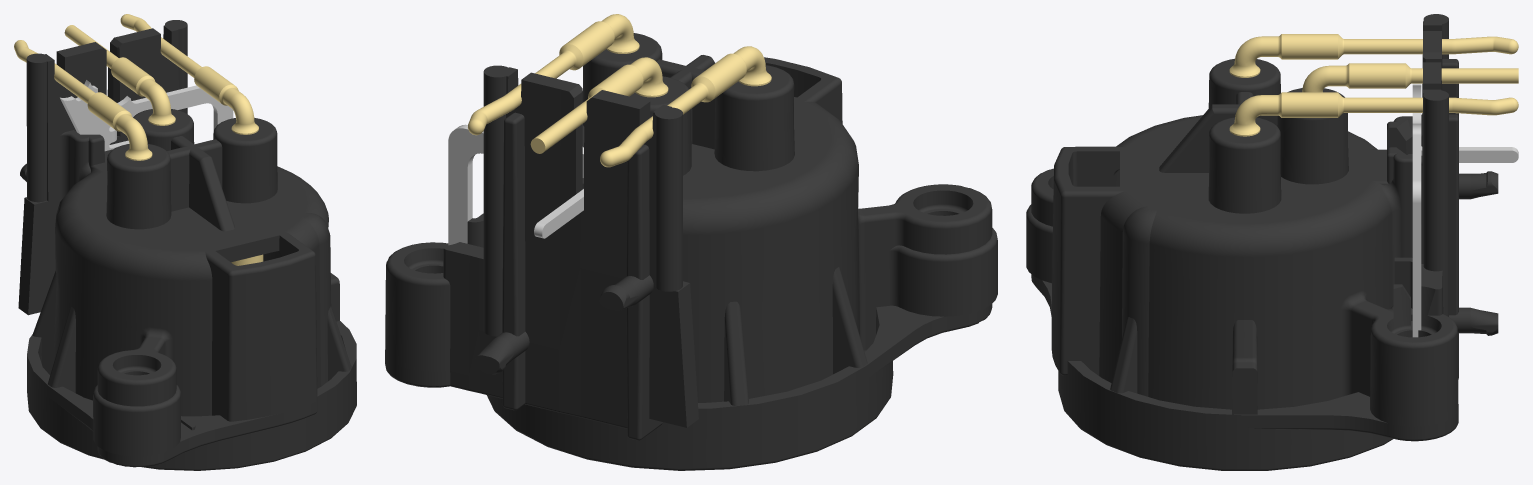
Rendered from Neutrik_NC3MAAH.3dmodel.glb.
3 renders of one model, left to right at view 1: azimuth 30°, elevation 25°; view 2: azimuth 150°, elevation 25°; view 3: azimuth 270°, elevation 25°, orthographic. The views are drawn at different scales.
Visible parts, largest first — view 1: =>[0:1:1:1]; view 2: =>[0:1:1:1]; view 3: =>[0:1:1:1].
Part boxes in pixels (box(x1,y1,x2,y2)): =>[0:1:1:1]: box(14, 14, 356, 470); =>[0:1:1:1]: box(385, 14, 997, 470); =>[0:1:1:1]: box(1026, 14, 1518, 470).
Size of the model in its own units: 25.3 by 21.7 by 28.78.
